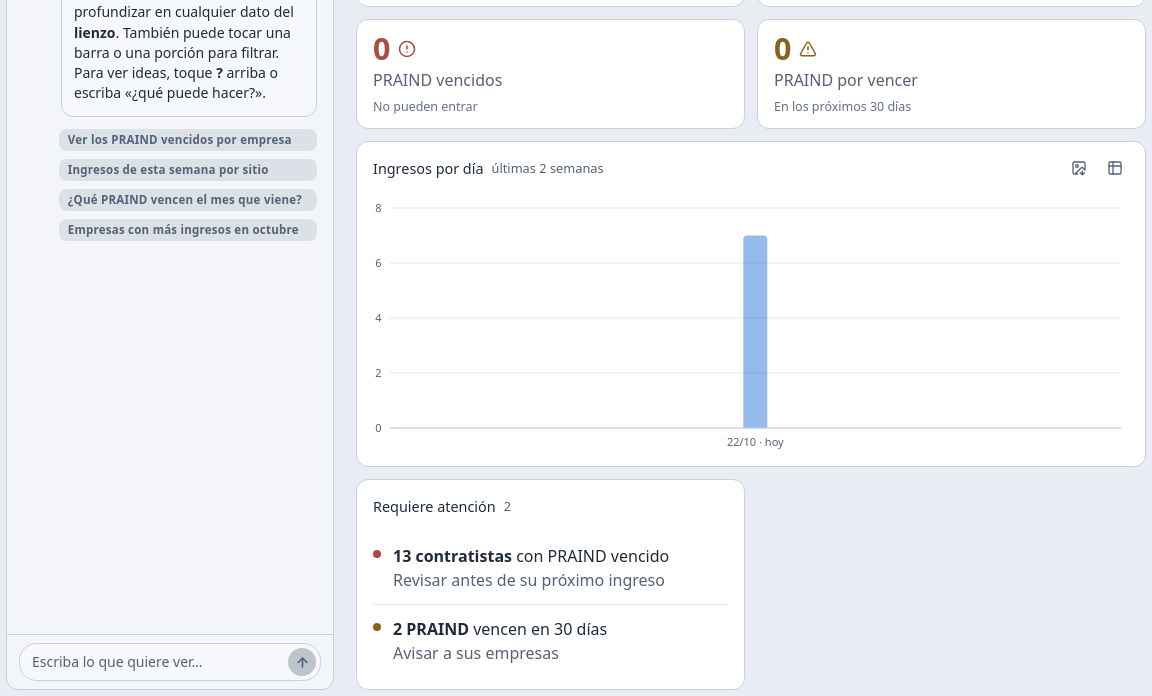
Test: Asistente › chat: Enter envía y Shift+Enter no (es salto de línea)
(page scrolled)
In the text box named "Mensaje para el asistente": (156, 662) [32,648,280,676], type "ingresos de hoy"
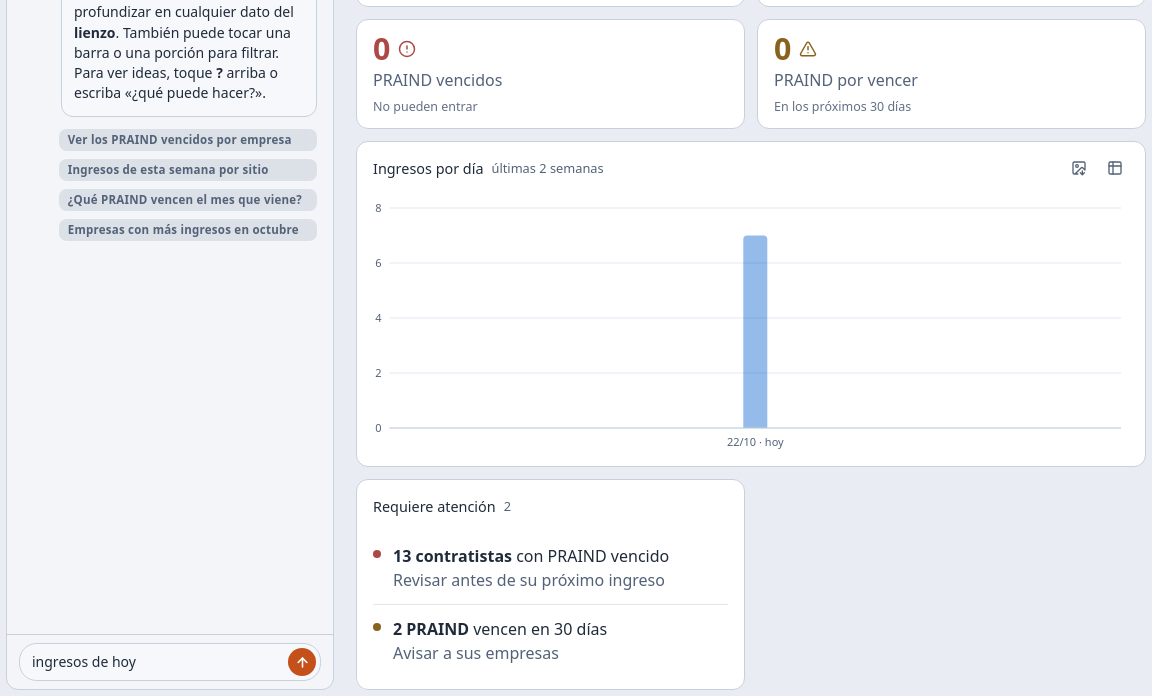
Press Enter in the text box named "Mensaje para el asistente", box [32,648,280,676]
Press Enter in the text box named "Mensaje para el asistente", box [32,648,280,676]
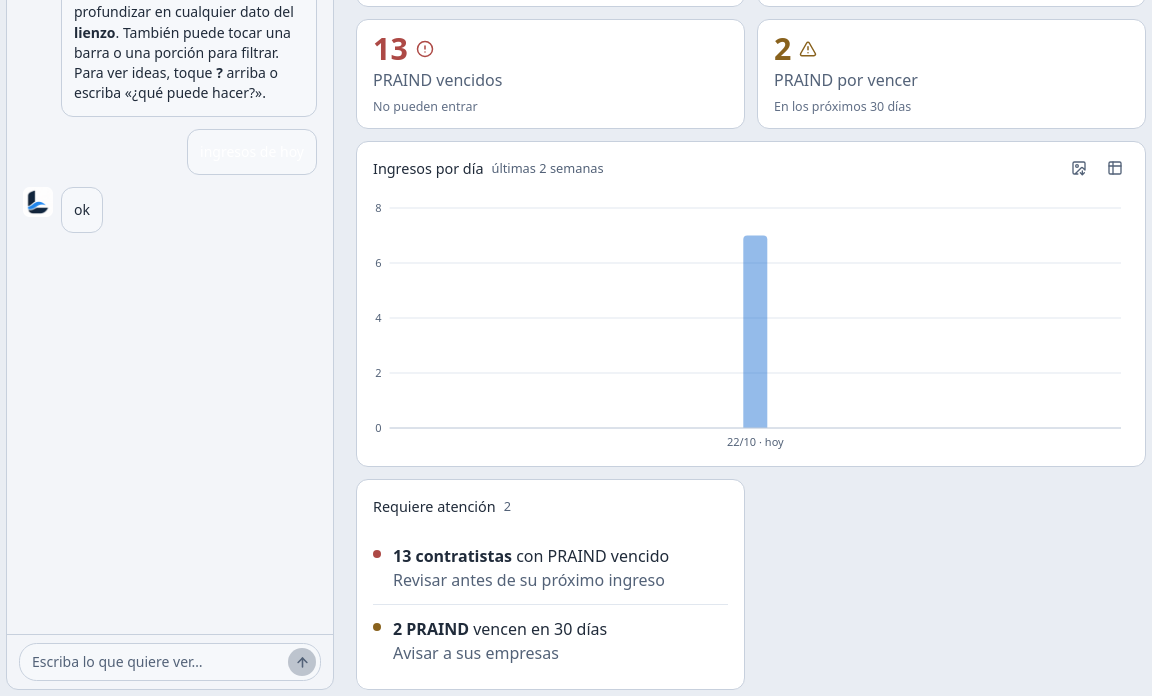
Expected: the text "ingresos de hoy" is shown, [187,129,317,175]
Expected: the text box named "Mensaje para el asistente" is empty, [32,648,280,676]
